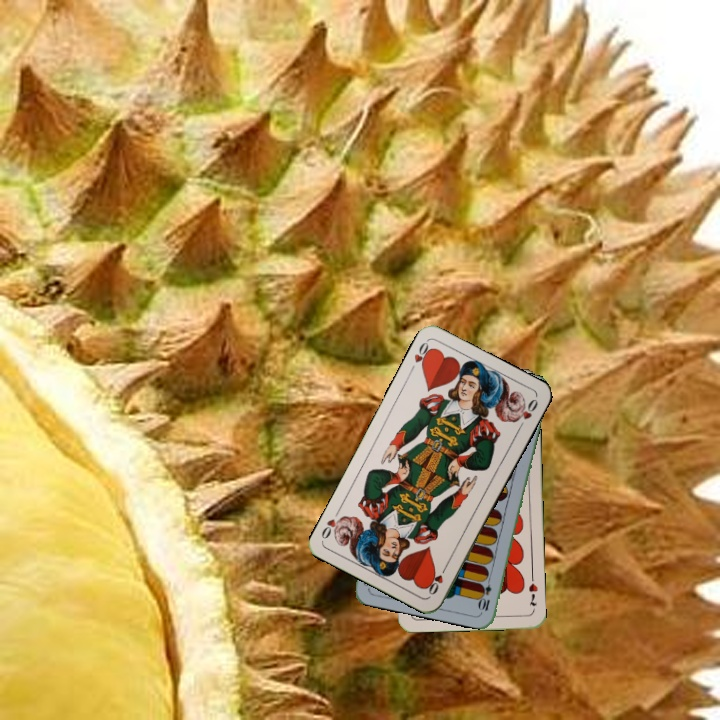E10: (476, 573, 494, 613)
H7: (524, 579, 540, 608)
HO: (424, 561, 450, 598), (410, 338, 436, 371)
